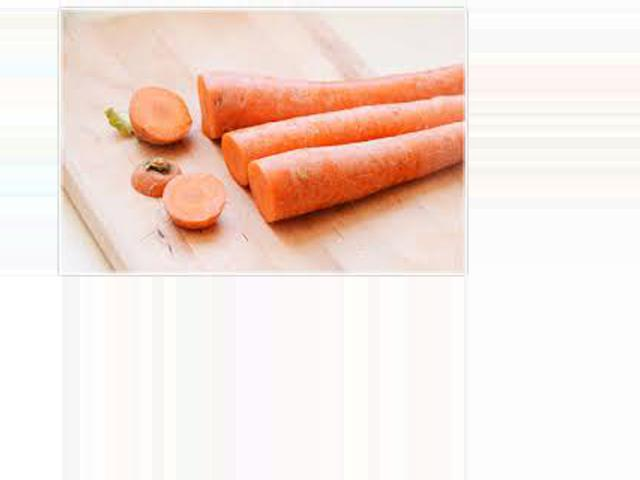carrot: (222, 136, 470, 221)
